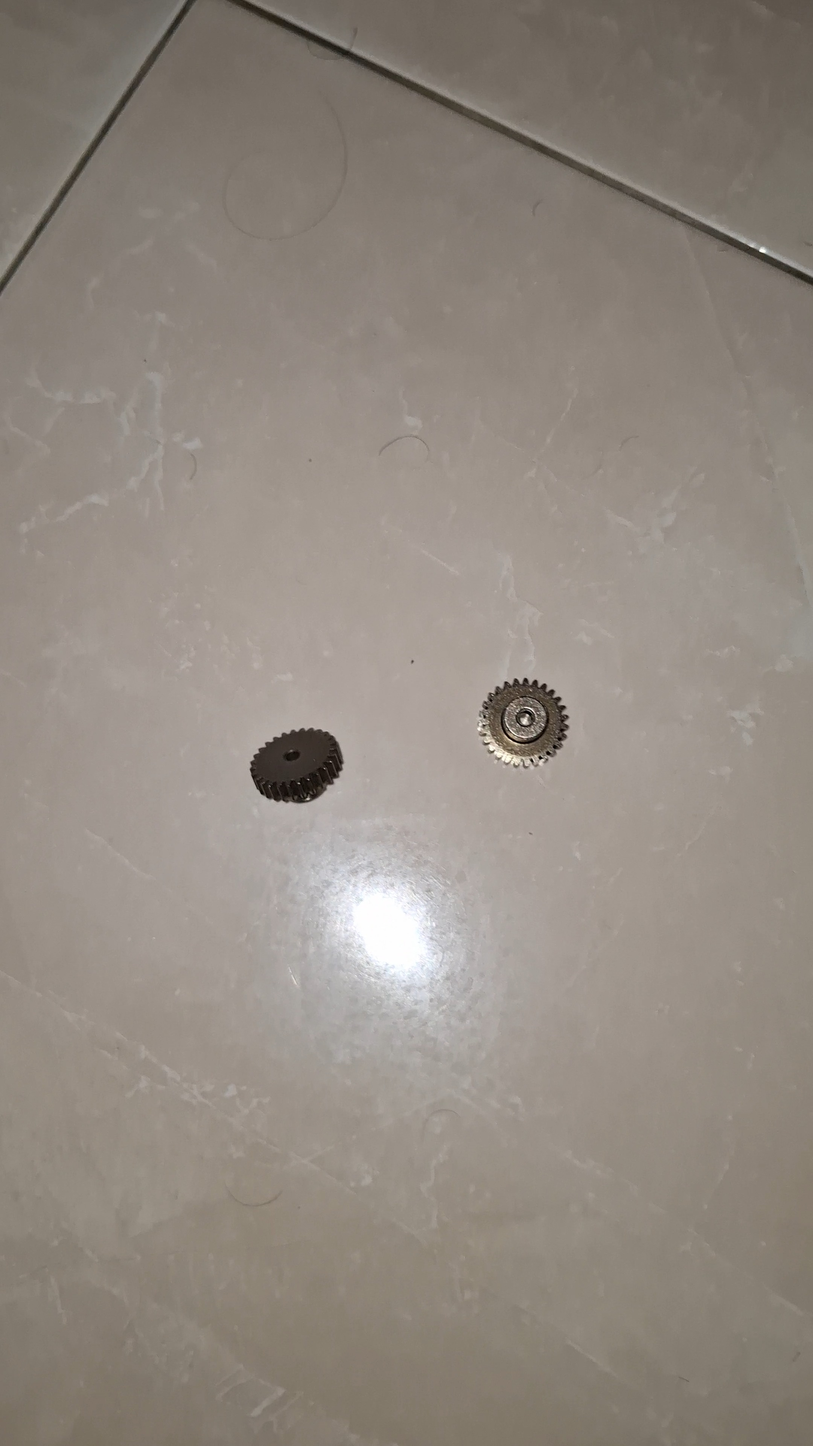spur gear: (478, 679, 567, 766), (250, 729, 342, 802)
